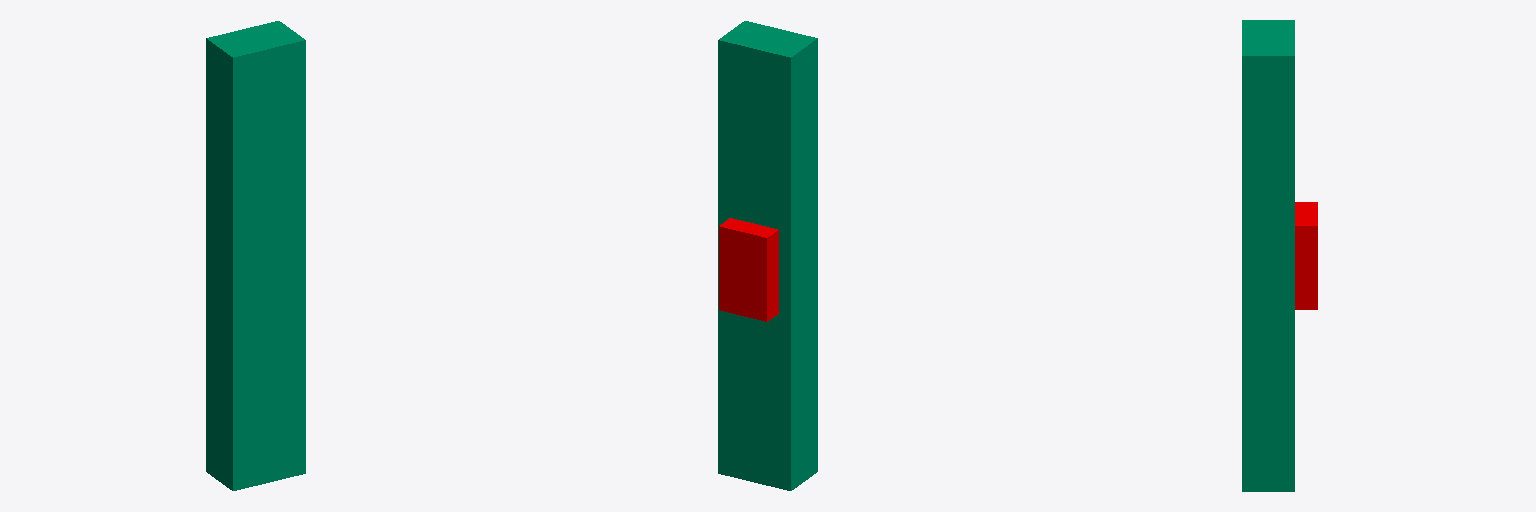
URDF robot description (knife):
<?xml version='1.0' encoding='utf-8'?>
<robot name="knife">
  <link name="base" /><joint name="joint_0" type="fixed"><origin xyz="0 0 0" rpy="0 0 0" /><parent link="base" /><child link="link_0" /></joint><link name="link_1">
    <visual name="link_1">
      <origin xyz="0 0.010019 0" rpy="0 0 0" />
      <geometry>
        <box size="0.01472606565221351 0.006025975200711725 0.024331370717584053" /></geometry>
    <material name="red"><color rgba="1 0 0 1" /></material></visual>
    <collision>
      <origin xyz="0 0.010019 0" rpy="0 0 0" />
      <geometry>
        <box size="0.01472606565221351 0.006025975200711725 0.024331370717584053" /></geometry>
    </collision>
    </link>
  <joint name="joint_1" type="prismatic">
    <origin xyz="0 0 0" />
    <axis xyz="0 0 1" />
    <child link="link_1" />
    <parent link="link_0" />
    <limit lower="-0.030123" upper="0.019877" effort="100.0" velocity="1.0" />
  </joint>
  <link name="link_0">
    <visual name="link_0">
      <origin xyz="0 0 0" />
      <geometry>
        <box size="0.022074689079005796 0.014011131178451586 0.12555248569020513" /></geometry>
    </visual>
    <collision>
      <origin xyz="0 0 0" />
      <geometry>
        <box size="0.022074689079005796 0.014011131178451586 0.12555248569020513" /></geometry>
    </collision>
    </link>
</robot>

--- Facts derived from the render (not from the file) ---
Views: 3 orthographic renders of the robot side by side, from view 1: azimuth 30°, elevation 25°; view 2: azimuth 150°, elevation 25°; view 3: azimuth 270°, elevation 25°.
Model knife with 3 links and 2 joints (1 prismatic, 1 fixed), rooted at base, posed all joints at 0.
Links seen in each view (by area): view 1: link_0; view 2: link_0, link_1; view 3: link_0, link_1.
Boxes of the visible links, x1,y1,x2,y2 form: link_0: (206,21,305,490); link_0: (718,21,817,490); link_1: (719,218,778,321); link_0: (1242,20,1294,491); link_1: (1295,202,1317,309).
Bounding box of the posed robot: 0.0221 × 0.02 × 0.1256 m (x, y, z).
Geometry: primitives only (box / cylinder / sphere), no mesh files.
